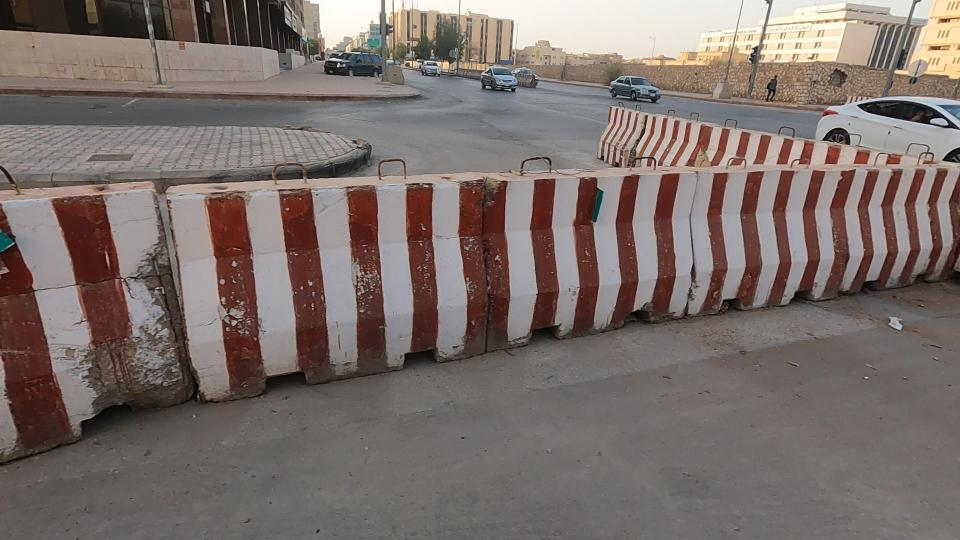CONSTRUCTION_ROAD: (0, 88, 789, 394), (505, 26, 960, 340)
GARBAGE: (855, 289, 927, 363)
